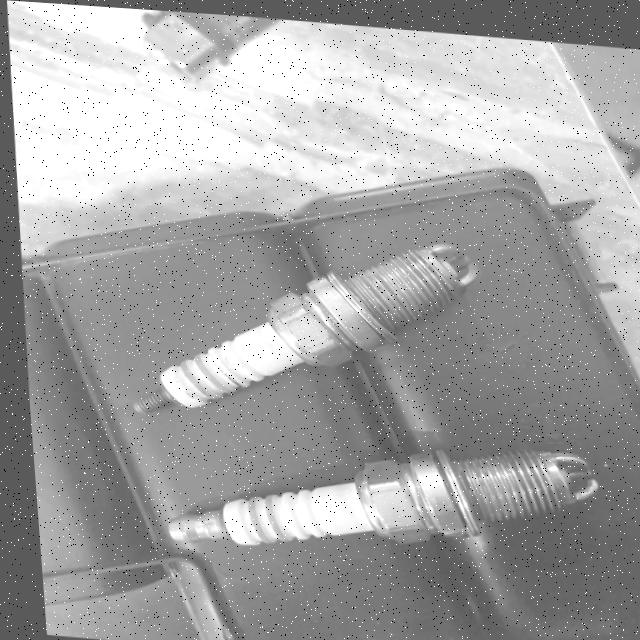spark-plug: (124, 399, 618, 602), (89, 226, 489, 430)
